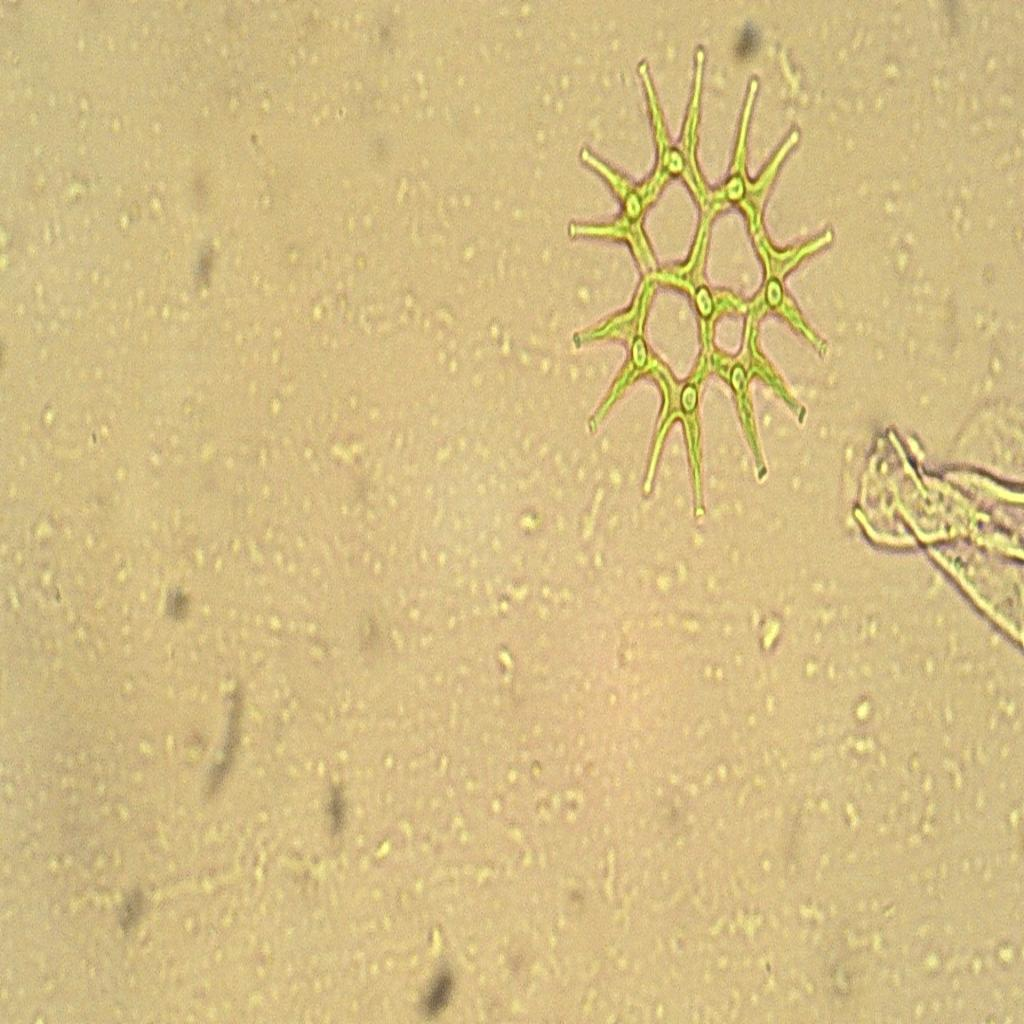Pediastrum_CTH: (555, 35, 837, 547)
